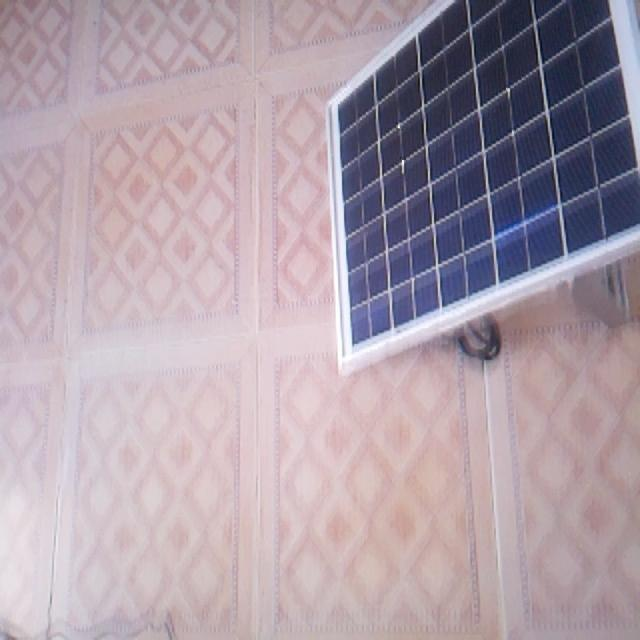Normal Solar Panel: (328, 1, 640, 373)
